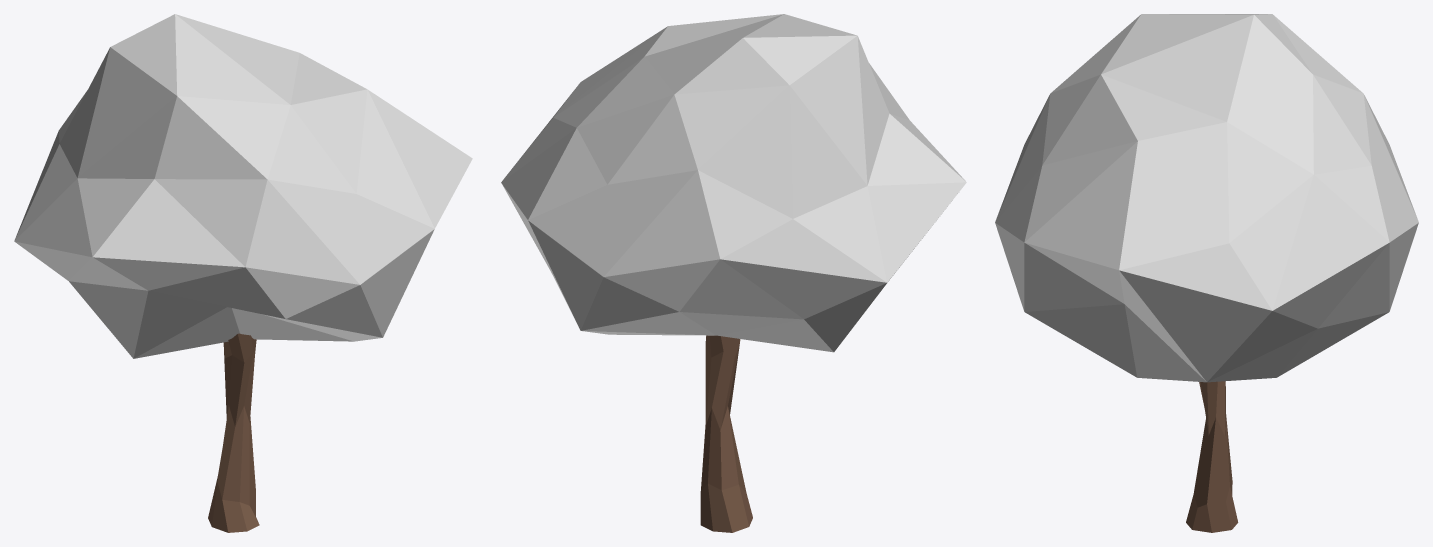
The model's file is Tree_47_White.fbx.
3 renders of one model, left to right at view 1: azimuth 30°, elevation 25°; view 2: azimuth 150°, elevation 25°; view 3: azimuth 270°, elevation 25°, orthographic. The views are drawn at different scales.
Visible parts, largest first — view 1: Tree_47_White_Part_1, Tree_47_White_Part_2; view 2: Tree_47_White_Part_1, Tree_47_White_Part_2; view 3: Tree_47_White_Part_1, Tree_47_White_Part_2.
Part boxes in pixels (x1,y1,x2,y2): Tree_47_White_Part_1: [14, 14, 472, 358]; Tree_47_White_Part_2: [208, 333, 259, 532]; Tree_47_White_Part_1: [501, 14, 966, 352]; Tree_47_White_Part_2: [700, 335, 752, 532]; Tree_47_White_Part_1: [995, 14, 1418, 382]; Tree_47_White_Part_2: [1186, 381, 1238, 532].
Size of the model in its own units: 630 by 794 by 622.
